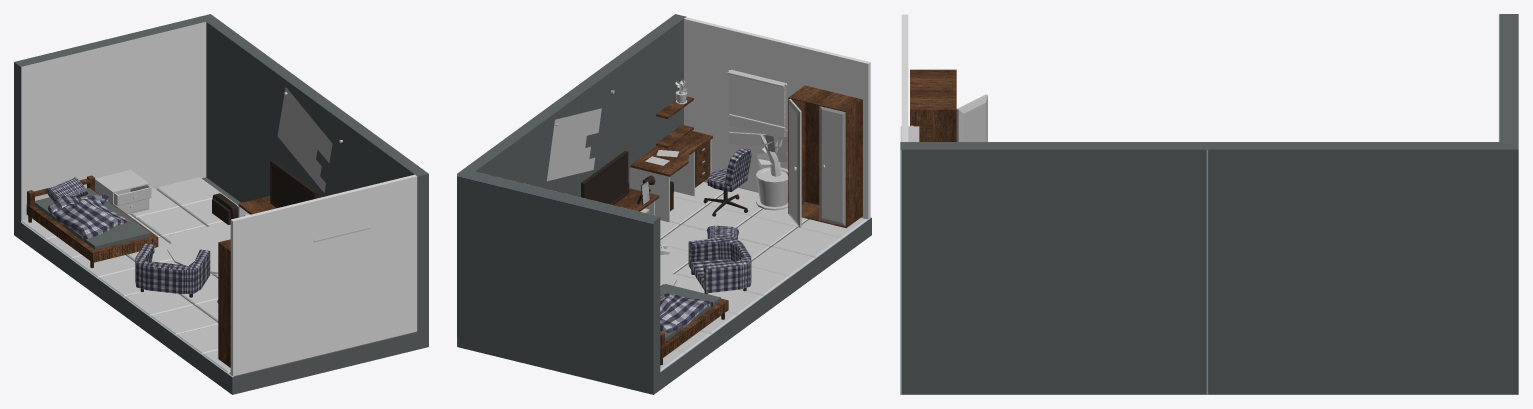
Rendered from manRoom_mirror_last.FBX.
3 views of the same model, side by side, from view 1: azimuth 30°, elevation 25°; view 2: azimuth 150°, elevation 25°; view 3: azimuth 270°, elevation 25° (orthographic). The views are drawn at different scales.
Visible parts, largest first — view 1: tex1, Box022, Box021, tex2, Group003; view 2: tex1, tex2, Box022, door1, door2, Group003; view 3: tex1, door2, Box022.
Boxes of the visible parts, <box> form: tex1: <box>14,14,428,394</box>; Box022: <box>230,174,417,376</box>; Box021: <box>21,22,206,220</box>; tex2: <box>21,87,370,372</box>; Group003: <box>53,198,129,242</box>; tex1: <box>457,14,871,394</box>; tex2: <box>547,69,866,370</box>; Box022: <box>684,17,870,218</box>; door1: <box>819,106,845,225</box>; door2: <box>789,98,801,227</box>; Group003: <box>660,293,712,327</box>; tex1: <box>900,14,1518,394</box>; door2: <box>956,94,987,141</box>; Box022: <box>901,14,908,141</box>.
Bounding box in the file's own units: 102 × 85.95 × 196.
